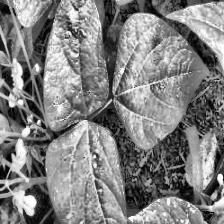Bean Rust: (43, 0, 113, 131), (49, 120, 132, 224), (163, 1, 224, 127), (127, 196, 221, 224), (9, 0, 53, 27)
